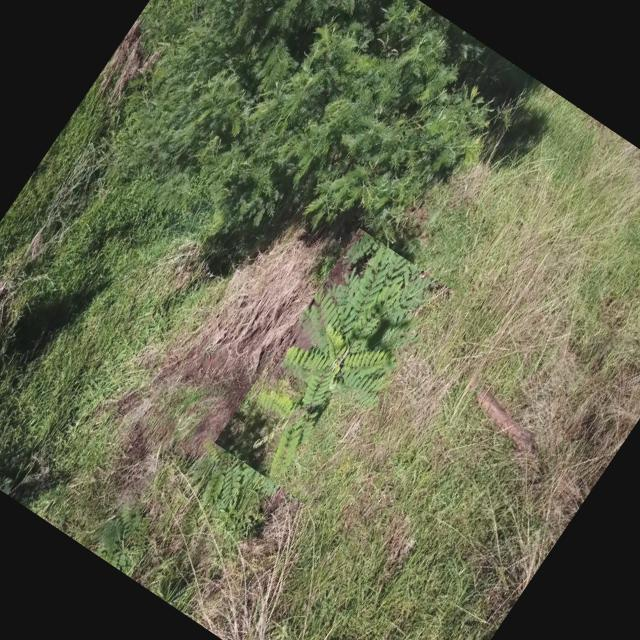Mysore-Thorn-Weed: (215, 228, 454, 506), (162, 392, 286, 527), (85, 484, 172, 577)
